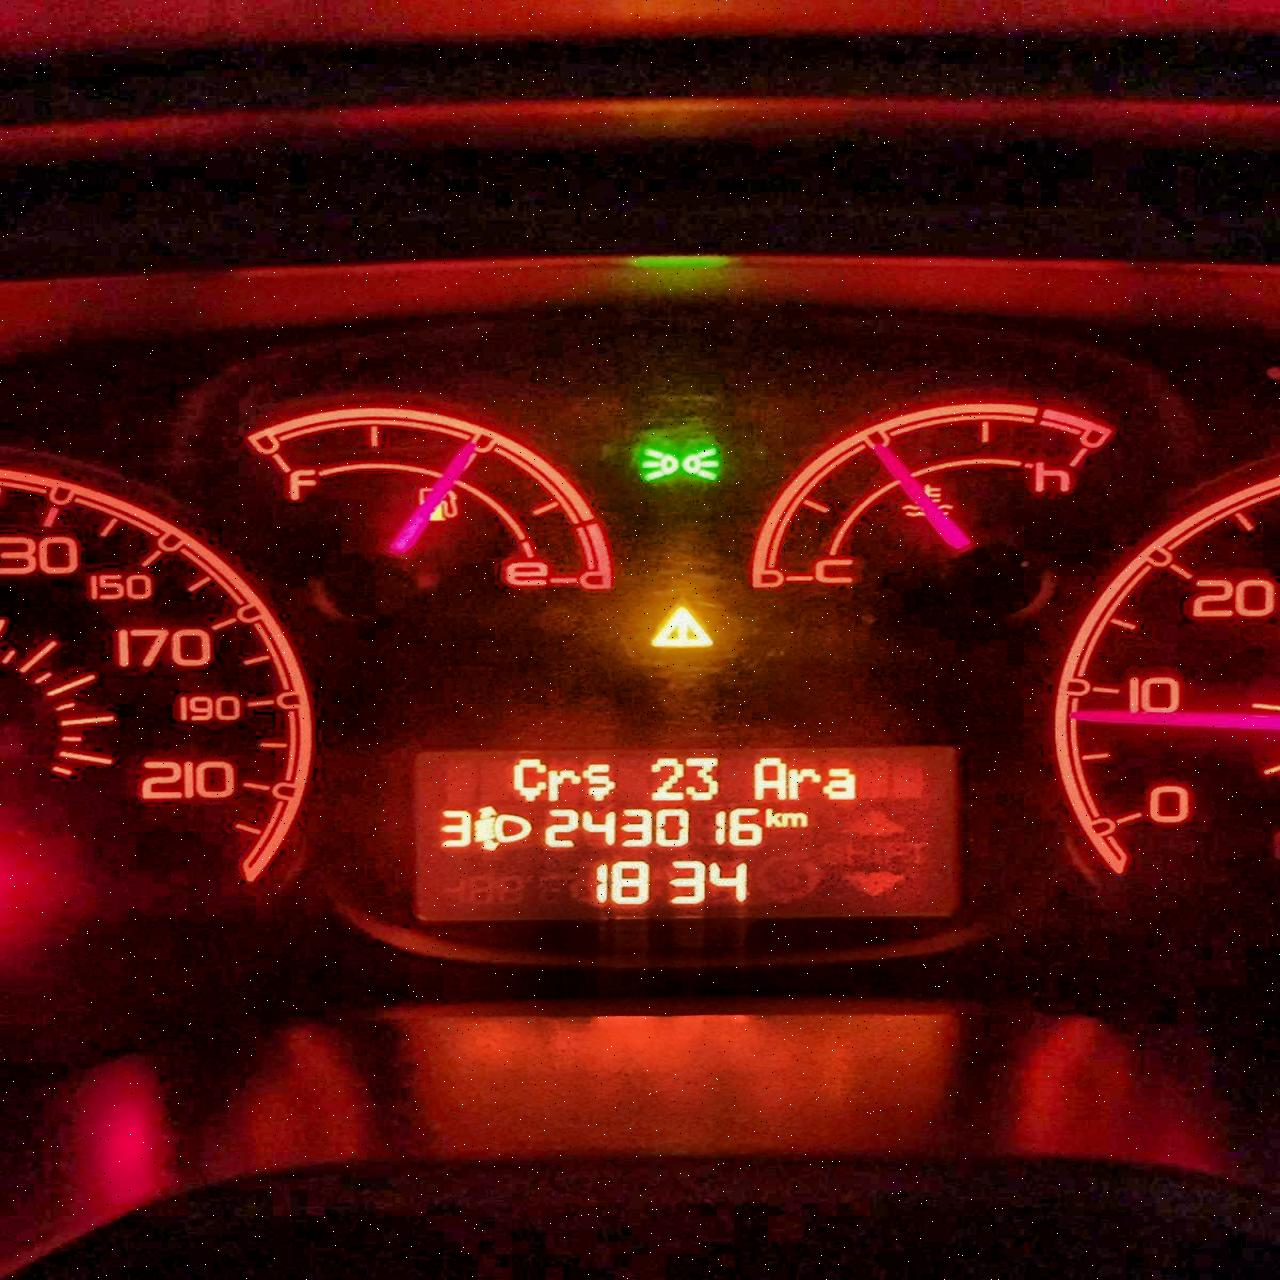0: (653, 806, 693, 847)
1: (592, 858, 608, 904), (713, 805, 726, 851)
2: (543, 808, 578, 850), (651, 757, 683, 802)
3: (667, 857, 706, 906), (683, 755, 722, 802), (620, 805, 653, 849), (441, 808, 470, 847)
4: (707, 856, 750, 903), (580, 808, 618, 846)
6: (728, 804, 762, 847)
8: (611, 858, 651, 906)
X: (750, 754, 788, 799), (511, 757, 543, 801), (583, 762, 617, 799), (824, 767, 858, 802), (787, 767, 821, 799), (549, 768, 579, 802), (782, 810, 809, 828), (765, 806, 781, 828)
odometer: (402, 737, 972, 927)
